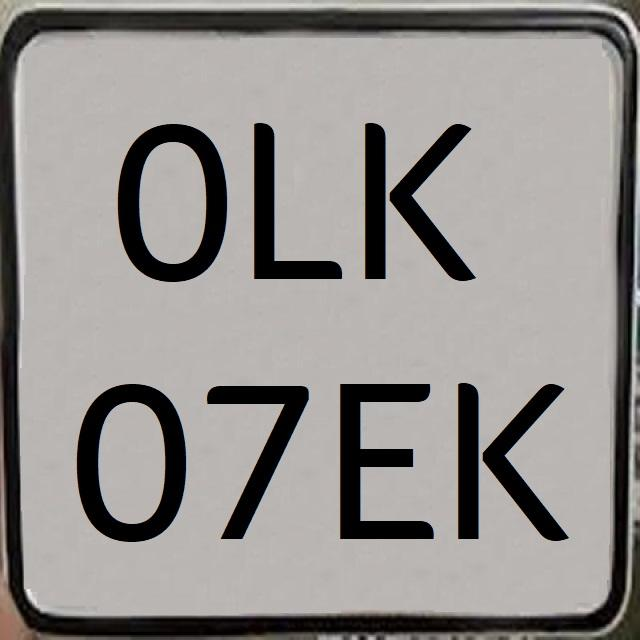0: (69, 368, 193, 548)
E: (333, 363, 438, 561)
K: (361, 101, 485, 302), (450, 356, 569, 551)
L: (249, 105, 344, 296)
T: (212, 356, 317, 554)
